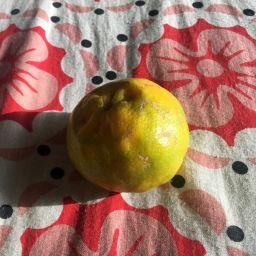Unripe: (69, 77, 189, 190)
